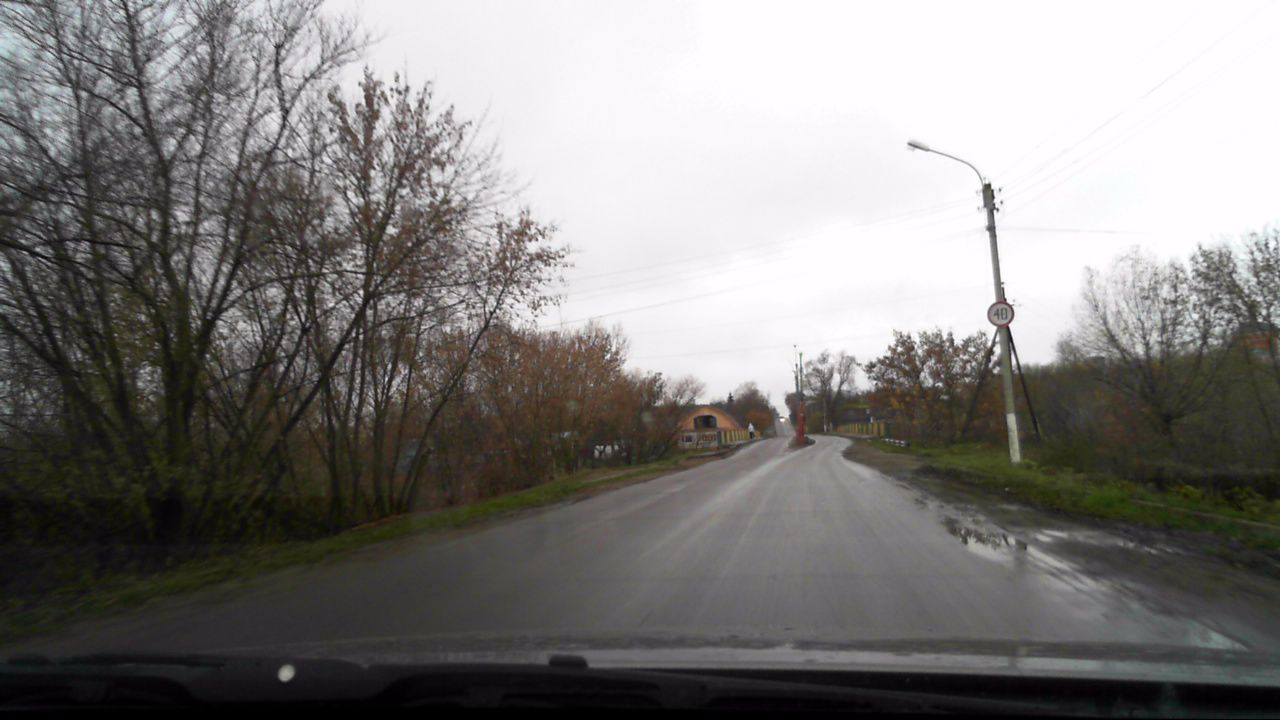speed_warning_40: (987, 301, 1014, 328)
